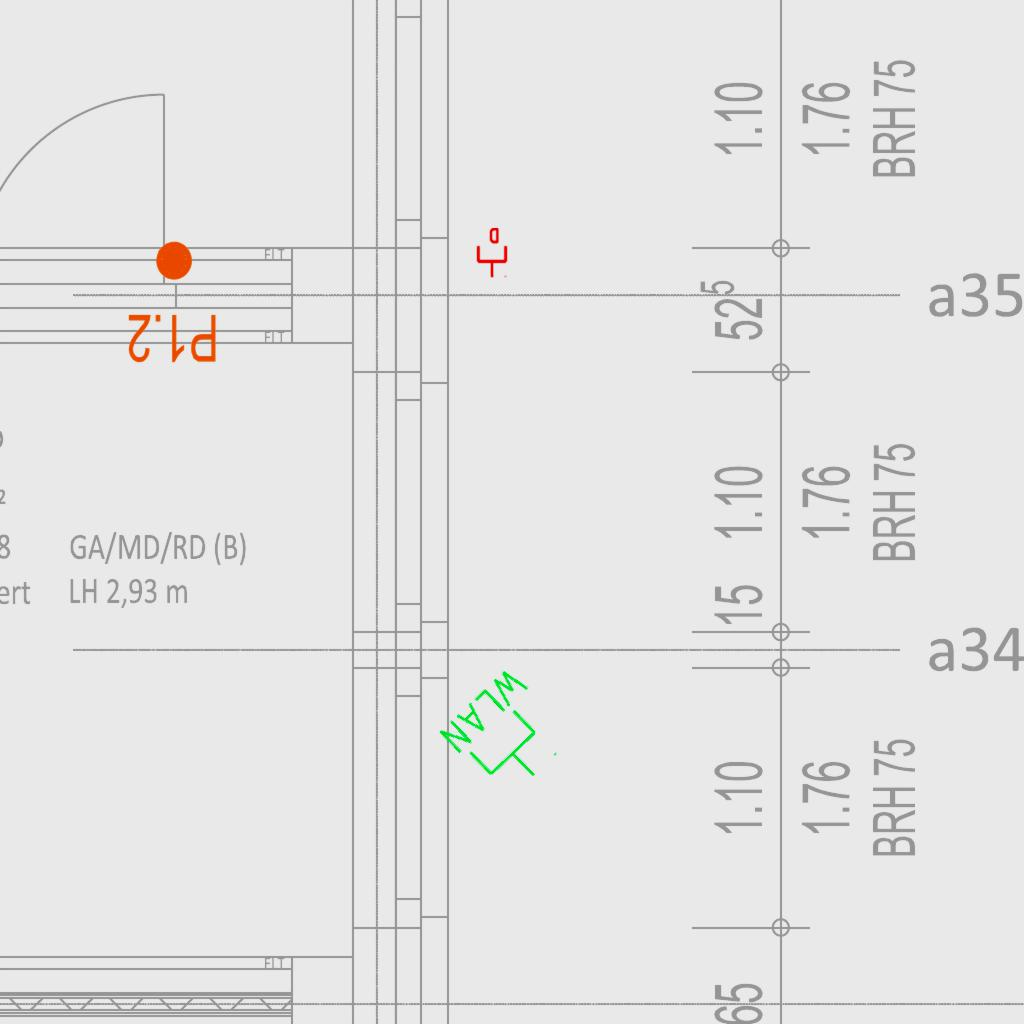Datenanschluss_einfach: (475, 228, 509, 278)
Downlight_LED_Einbauleuchten_Flur: (126, 238, 219, 366)
WLAN: (433, 659, 581, 808)
